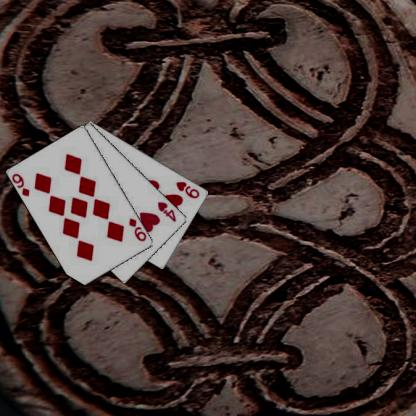4H: (155, 199, 178, 223)
9D: (127, 216, 148, 243), (10, 171, 31, 197)
9H: (174, 179, 200, 199)
